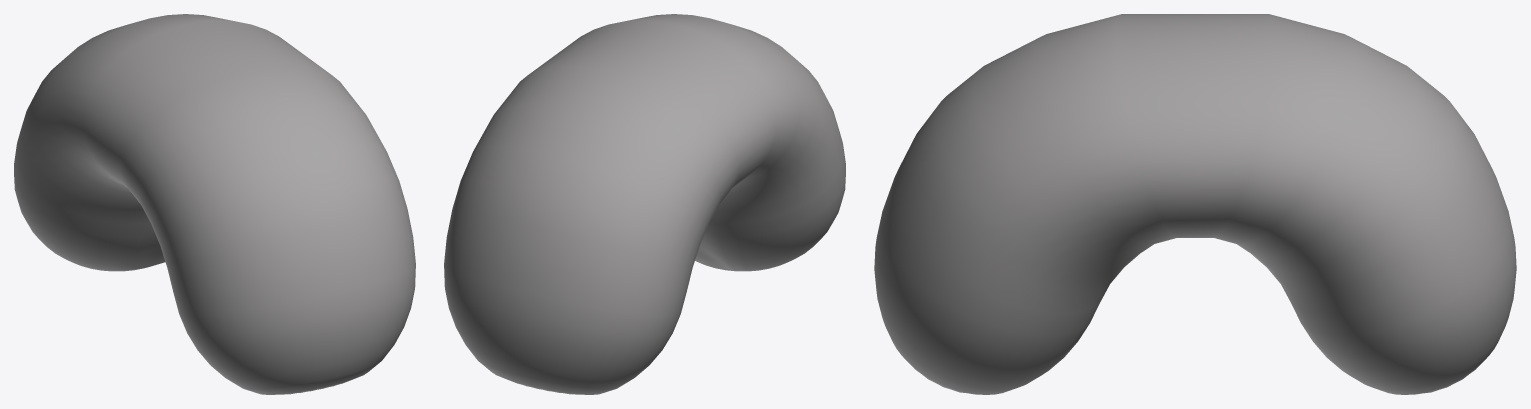
The model's file is bean.fbx.
3 views of the same model, side by side, from view 1: azimuth 30°, elevation 25°; view 2: azimuth 150°, elevation 25°; view 3: azimuth 270°, elevation 25° (orthographic). The views are drawn at different scales.
Visible parts, largest first — view 1: pSphere13; view 2: pSphere13; view 3: pSphere13.
Boxes of the visible parts, x1,y1,x2,y2 form: pSphere13: (14,14,415,394); pSphere13: (444,14,845,394); pSphere13: (874,14,1516,394).
Bounding box in the file's own units: 221 × 258 × 443.
Materials: 1 (1 with a texture image).
